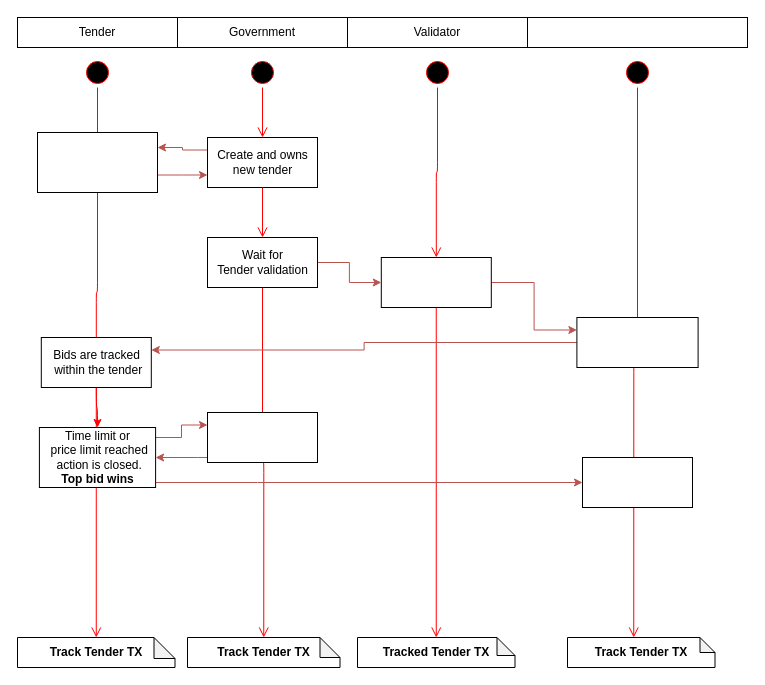
This 765x685 diagram has some shape labels left out. Here are the shapes that lost their labels. From the top down, the centre of each, then its label:
point (637, 32): Bidder
point (97, 162): Tenders are created only by government and mapped
point (435, 282): Validate Tender tender is open for action
point (637, 342): Bid on validated Tender
point (262, 437): Bid amount is transfered to Tender
point (637, 482): Bidder receives ownerShip of tender
